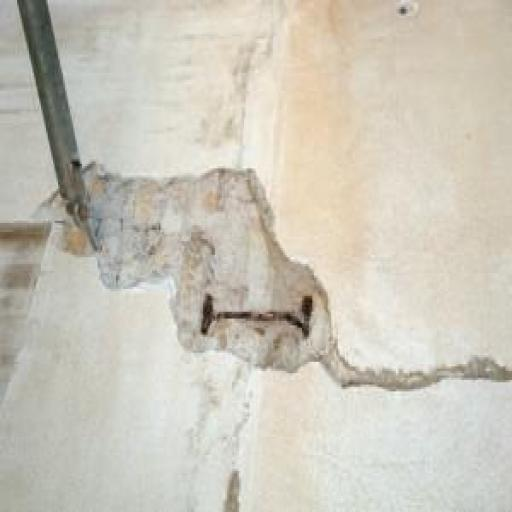spalling: (41, 164, 512, 393)
